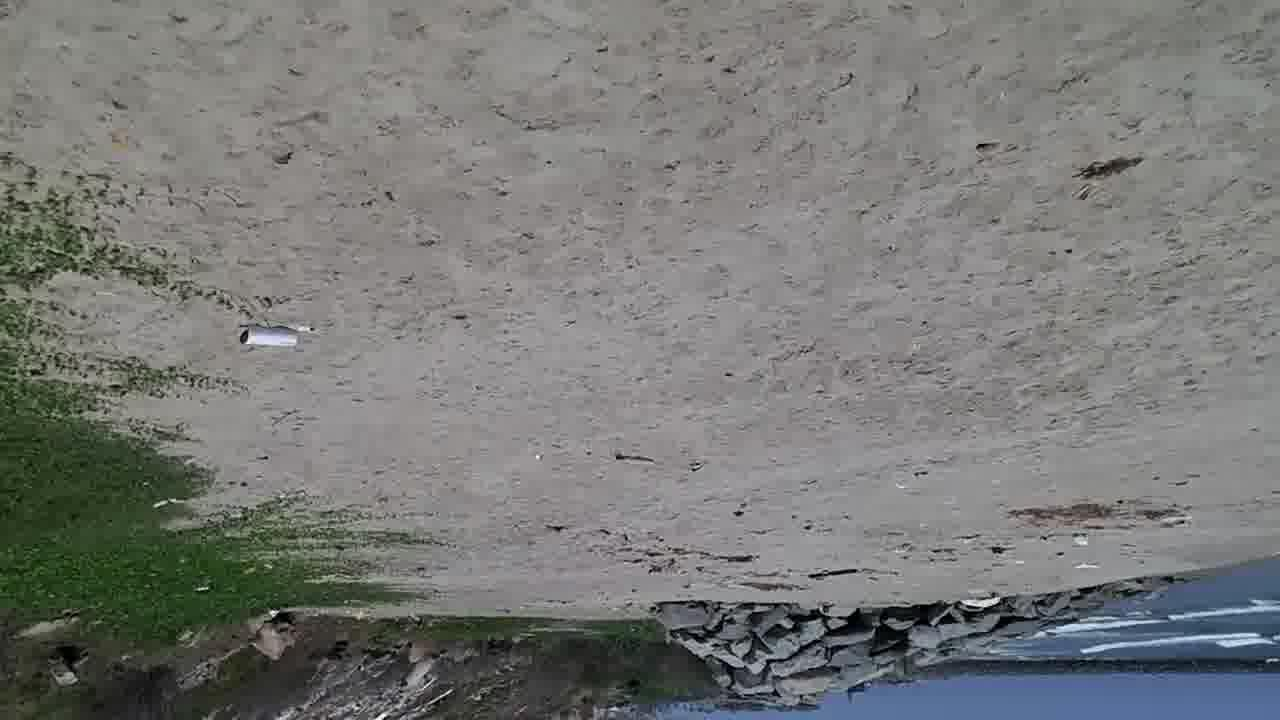obj: (1005, 499, 1197, 534), (1048, 156, 1152, 210), (235, 324, 309, 350), (648, 551, 761, 564), (807, 569, 858, 580), (614, 456, 656, 466), (992, 547, 1015, 562), (1072, 534, 1090, 548), (1073, 561, 1100, 569)
sand/background: (0, 125, 1280, 719)
